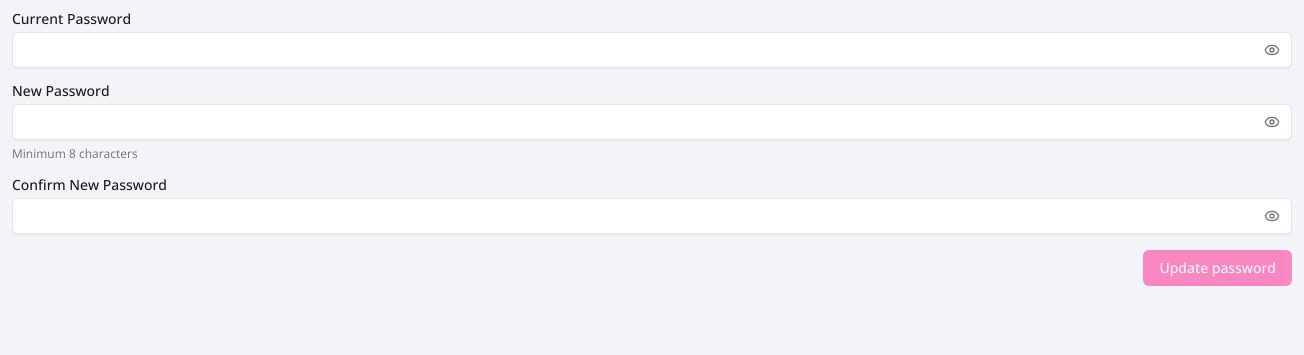
Scenario: SecurityForm › submits and shows success when all fields valid
This screenshot has width=1304, height=355.
Type "oldpass1" into the password field labelled "Current Password" at point(652, 50), box [12,32,1292,68]
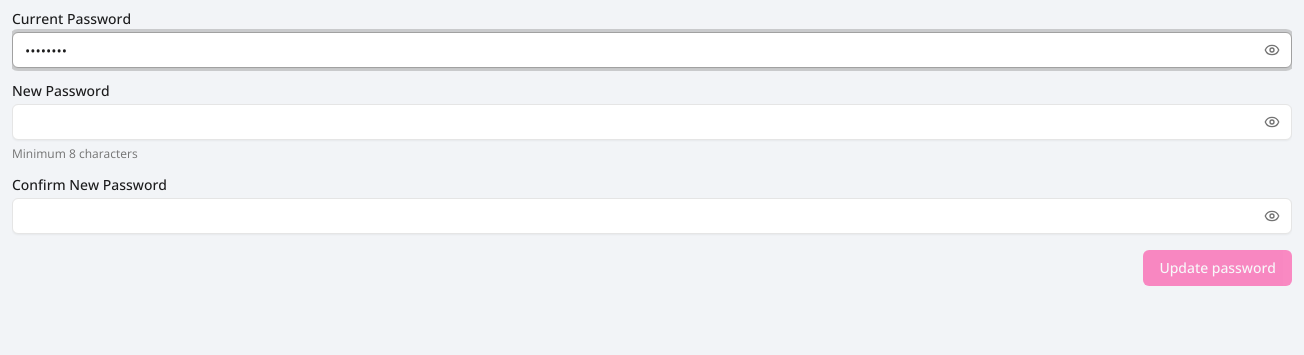
Type "newpass123" into the password field labelled "New Password" at point(652, 122), box [12,104,1292,140]
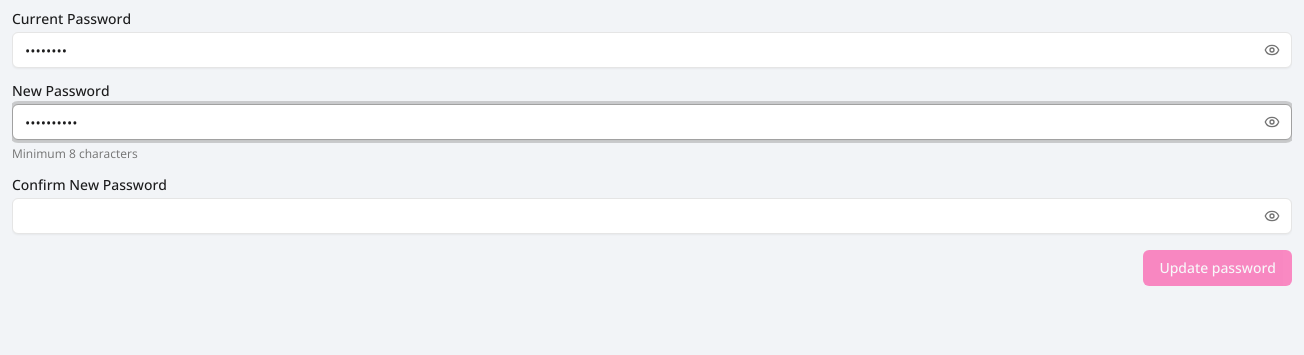
Type "newpass123" into the password field labelled "Confirm New Password" at point(652, 216), box [12,198,1292,234]
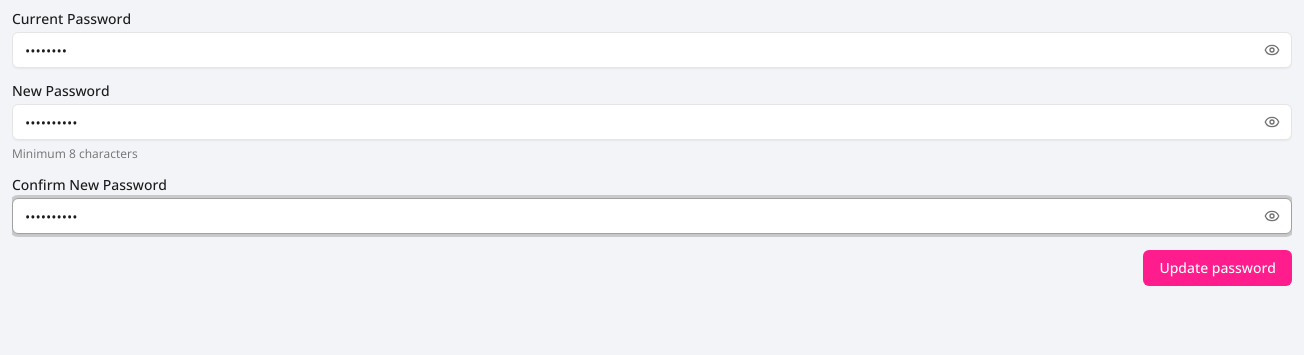
Click the button "Update password" at point(1218, 268), box [1143,250,1292,286]
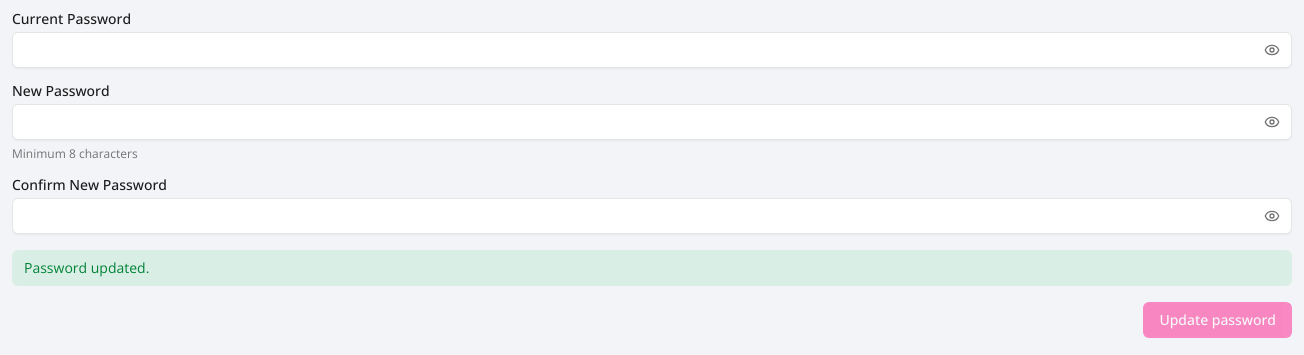
Expected: the message reads "Password updated.", [24,258,149,277]
